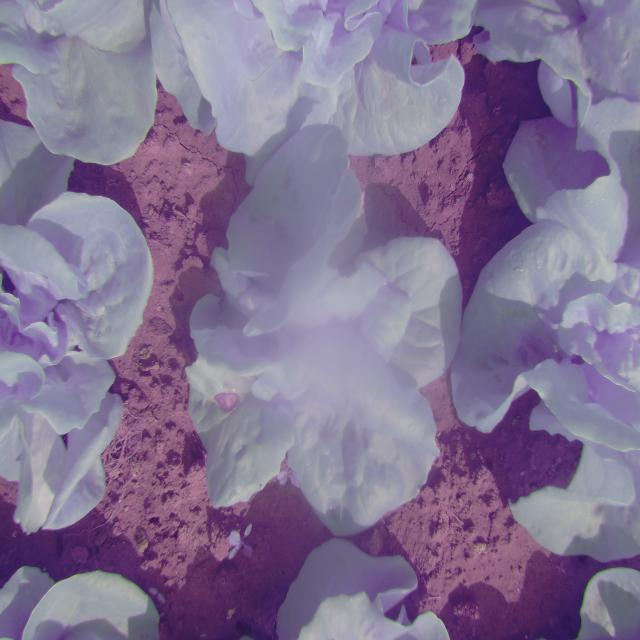vege: (178, 125, 463, 538)
